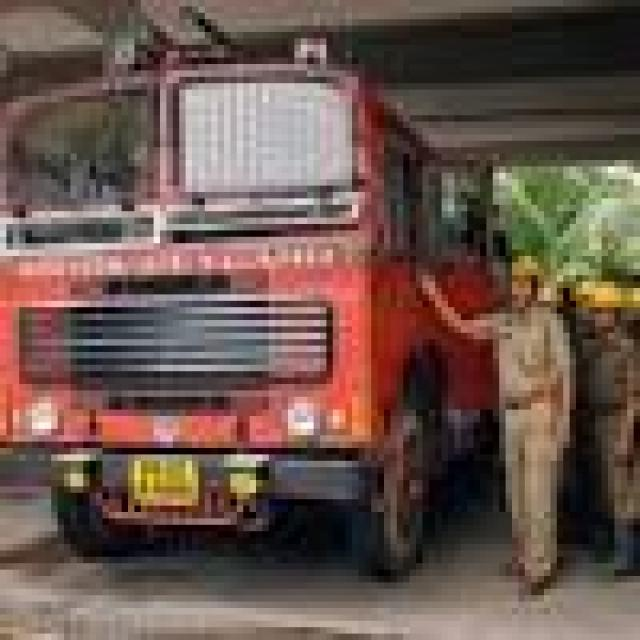Fire_brigade: (0, 13, 480, 640)
